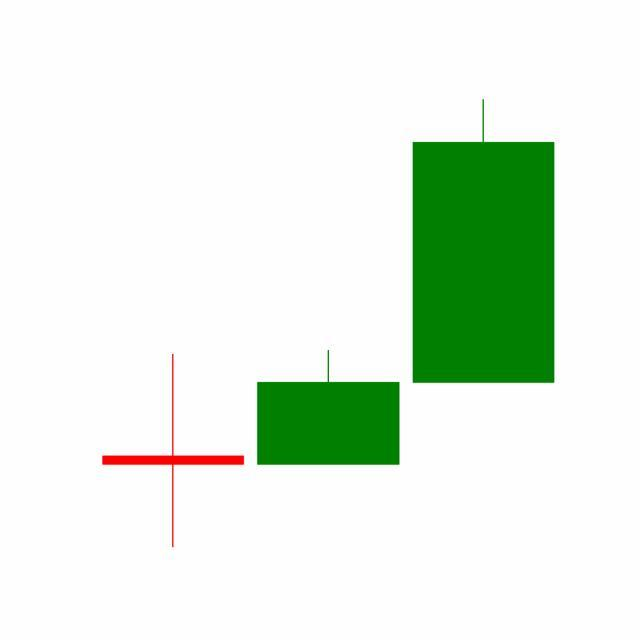Marubozu: (406, 97, 562, 387)
